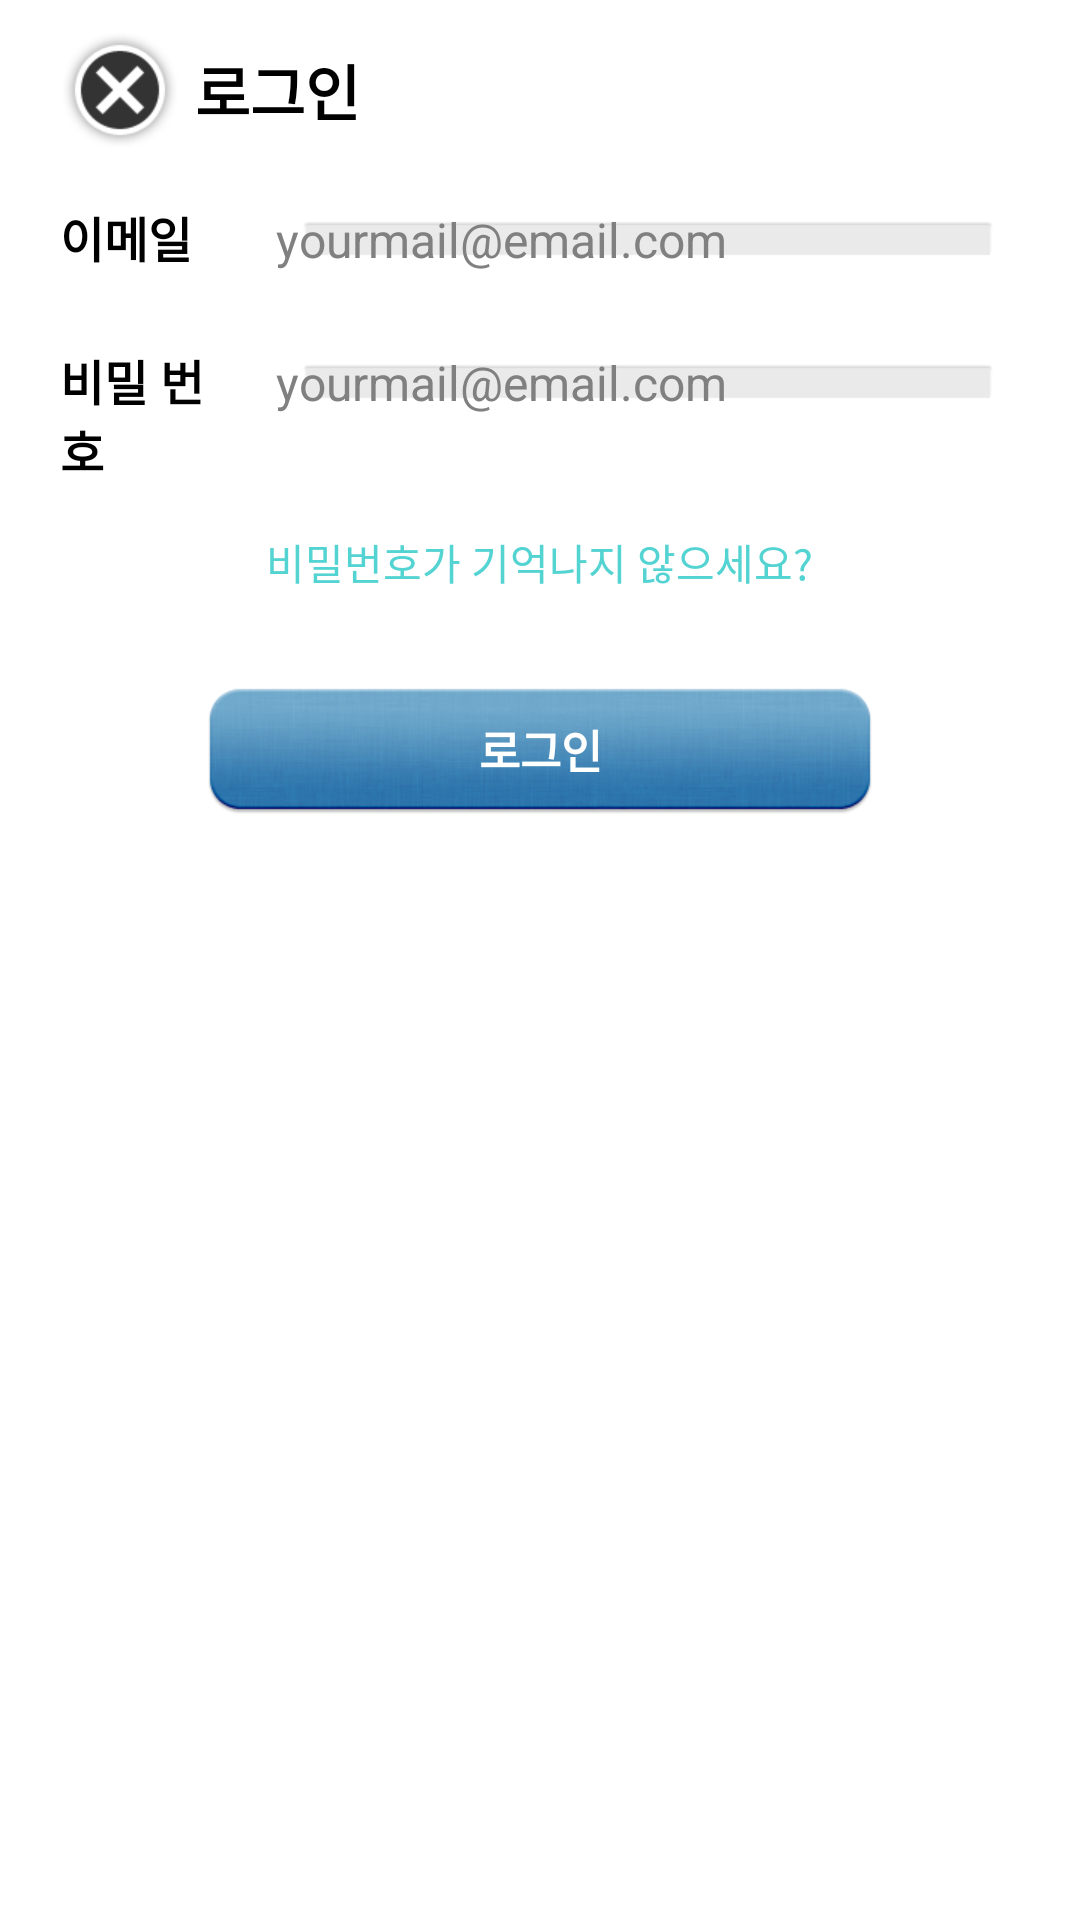

Where icons sit on this 1080px x 1920px app screen, as (x1, y1, x2, y2):
pop close: (70, 40, 170, 140)
